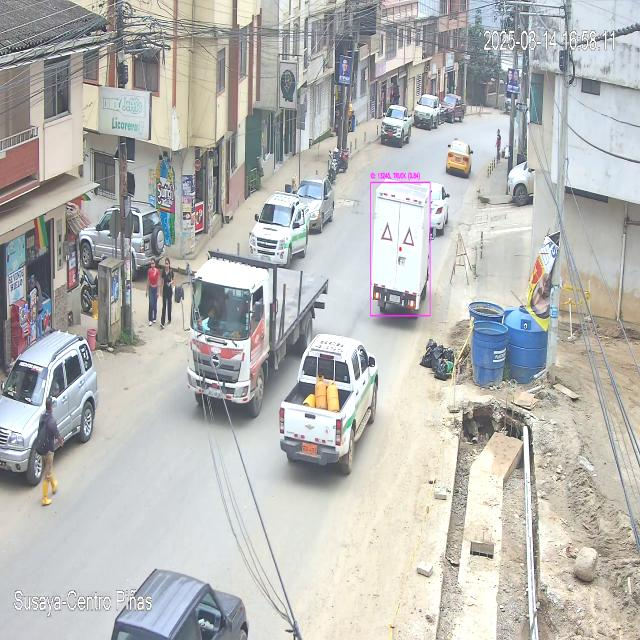CMT: (278, 336, 379, 478), (248, 191, 310, 269)
TRUCK: (186, 255, 328, 425)
